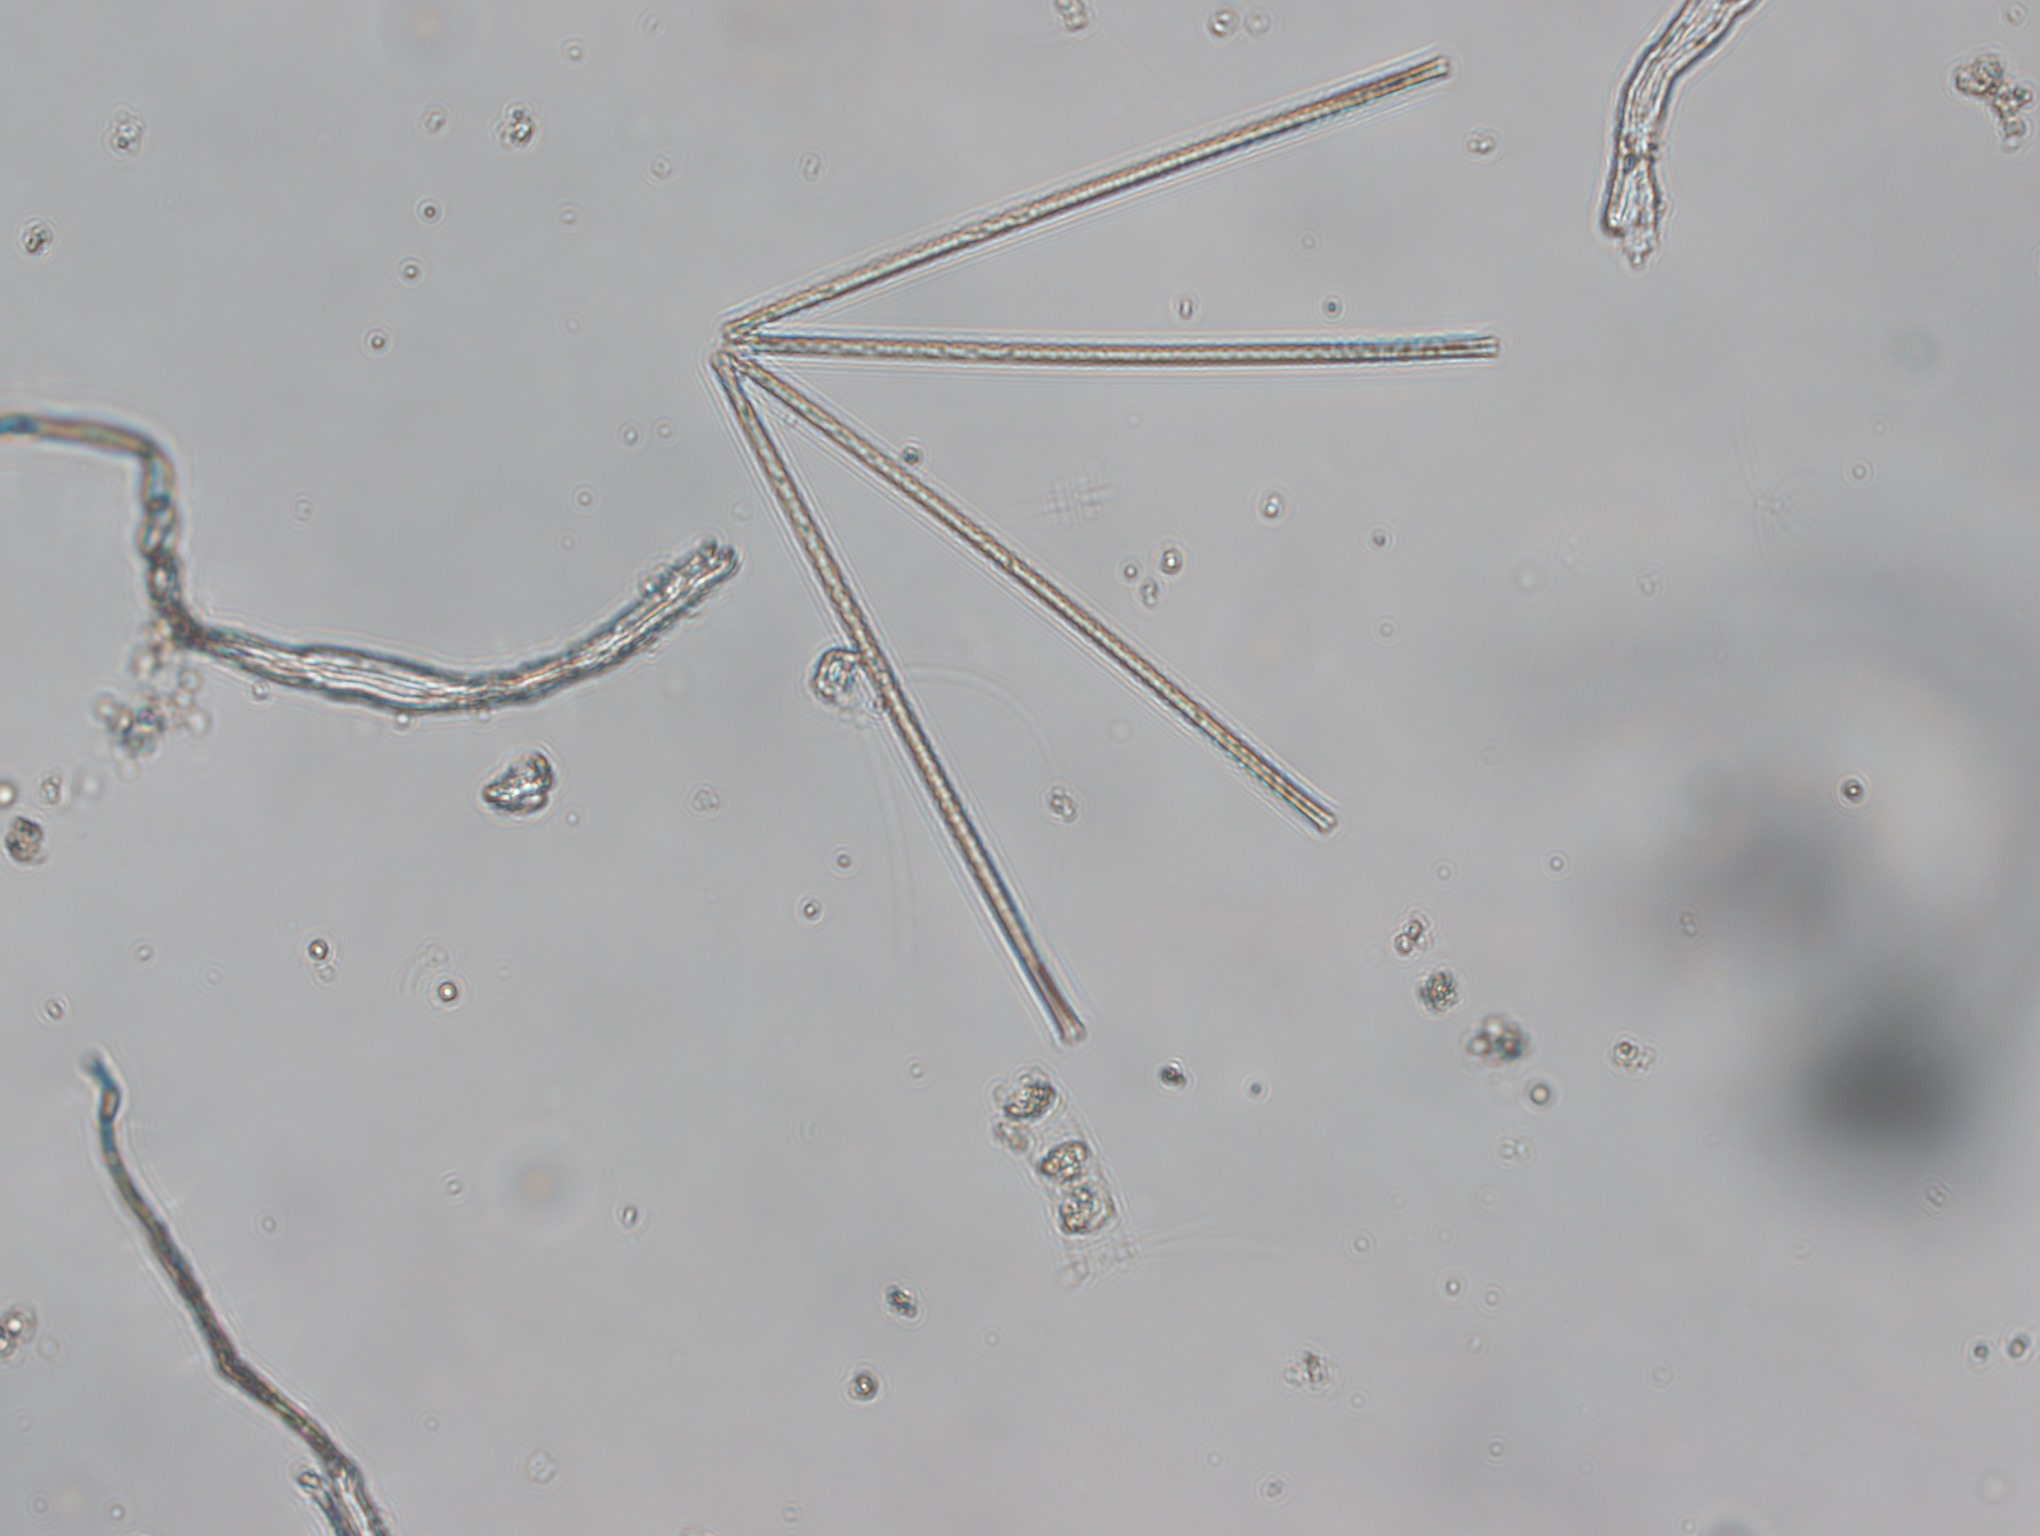chaetoceros: (995, 1063, 1216, 1279)
thalassionema frauenfeldii: (703, 48, 1505, 1049)
